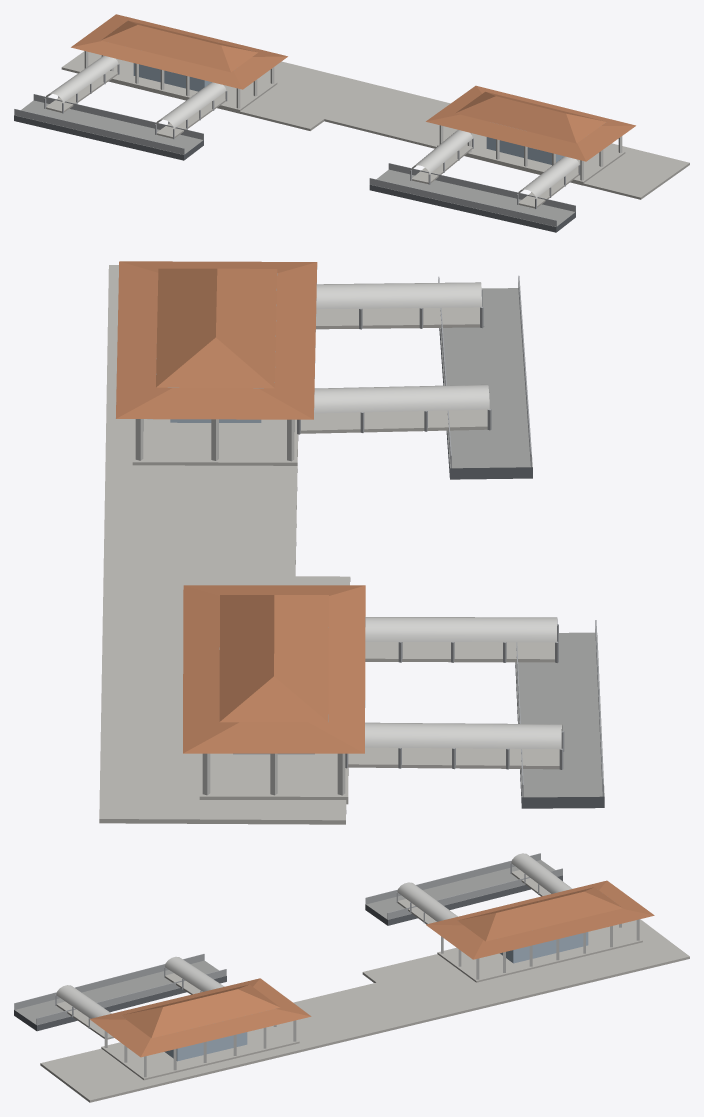
Rendered from thatien.glb.
3 views of the same model, one above another, from view 1: azimuth 30°, elevation 25°; view 2: azimuth 150°, elevation 25°; view 3: azimuth 270°, elevation 25° (orthographic). The views are drawn at different scales.
Visible parts, largest first — view 1: thatien; view 2: thatien; view 3: thatien.
Part boxes in pixels (x1=…): thatien: x1=14, y1=14, x2=689, y2=232; thatien: x1=99, y1=261, x2=604, y2=824; thatien: x1=14, y1=853, x2=689, y2=1102.
Size of the model in its own units: 77.19 by 7.6 by 92.93.
